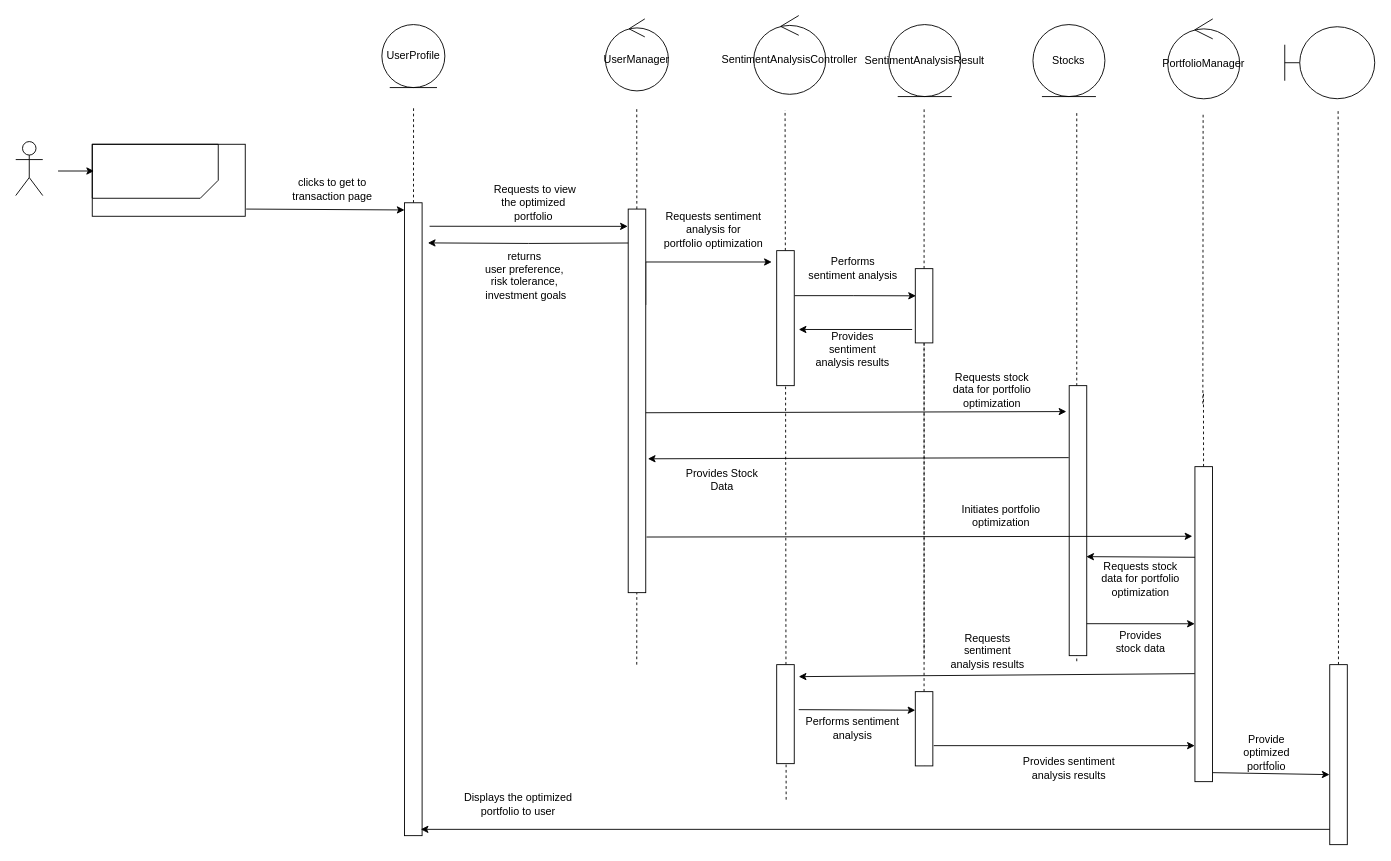
Some shapes in this 1391 by 861 pixel diagram are drawn without their labels. The shapes that lost their labels are listed below. From the top down, each one's centre as x and y in pixels, then its label:
At point (1329, 62): "PortfolioView".
At point (29, 168): "Actor".
At point (154, 170): "Login".
